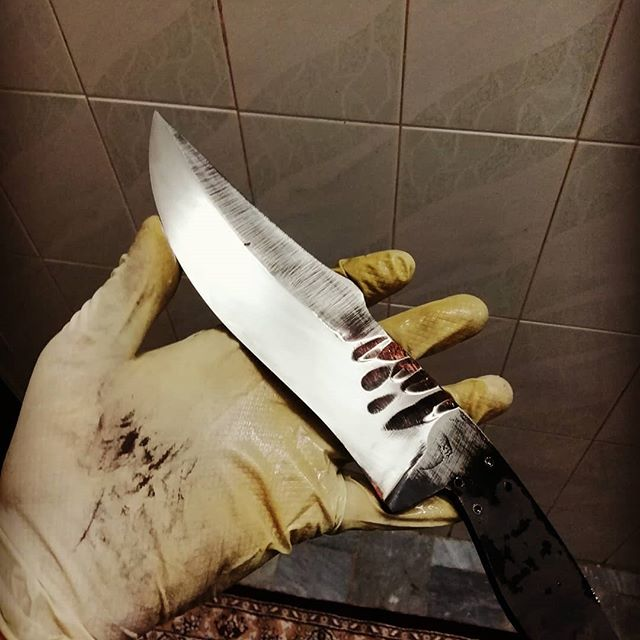knife: (149, 111, 621, 640)
